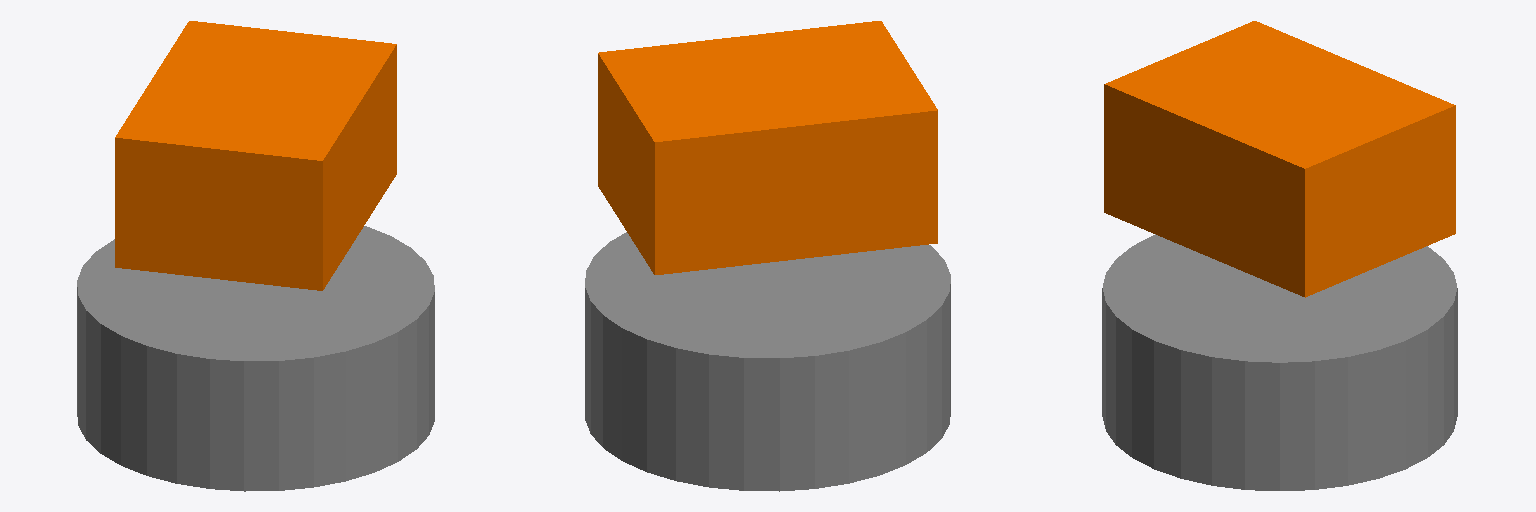
The robot description file, URDF, robot "comau_ns16_demo_rotating":
<?xml version="1.0"?>
<robot name="comau_ns16_demo_rotating">

  <!-- Base link -->
  <link name="base_link">
    <visual>
      <origin xyz="0 0 0" rpy="0 0 0"/>
      <geometry>
        <cylinder length="0.2" radius="0.25"/>
      </geometry>
      <material name="gray">
        <color rgba="0.6 0.6 0.6 1"/>
      </material>
    </visual>
  </link>

  <!-- Shoulder link -->
  <link name="shoulder_link">
    <visual>
      <!-- position box above base and rotated around Z -->
      <origin xyz="0 0 0.2" rpy="0 0 0"/>
      <geometry>
        <box size="0.4 0.3 0.2"/>
      </geometry>
      <material name="orange">
        <color rgba="1 0.5 0 1"/>
      </material>
    </visual>
  </link>

  <!-- Revolute joint -->
  <joint name="shoulder_pan_joint" type="revolute">
    <parent link="base_link"/>
    <child link="shoulder_link"/>
    <!-- pivot at top center of base -->
    <!-- rpy rotation pre-applied (0 rad around X/Y, 45 deg around Z) -->
    <origin xyz="0 0 0.1" rpy="0 0 0.7854"/>
    <axis xyz="0 0 1"/>
    <limit effort="50" velocity="1.5" lower="-3.14" upper="3.14"/>
  </joint>

</robot>

--- What the picture shows (computed from the rendered views, not written in the file) ---
3 views of the same robot in one strip: view 1: azimuth 30°, elevation 25°; view 2: azimuth 150°, elevation 25°; view 3: azimuth 270°, elevation 25° (orthographic).
Model comau_ns16_demo_rotating with 2 links and 1 joints (1 revolute), rooted at base_link, posed every joint at zero.
Visible links, largest first — view 1: base_link, shoulder_link; view 2: base_link, shoulder_link; view 3: base_link, shoulder_link.
Boxes of the visible links, x1,y1,x2,y2 form: base_link: (77,226,434,491); shoulder_link: (115,21,396,290); base_link: (585,232,950,491); shoulder_link: (598,21,937,274); base_link: (1102,234,1457,490); shoulder_link: (1104,21,1455,297).
Size in the robot's own frame: 0.5 by 0.5 by 0.5 metres.
Geometry: primitives only (box / cylinder / sphere), no mesh files.
